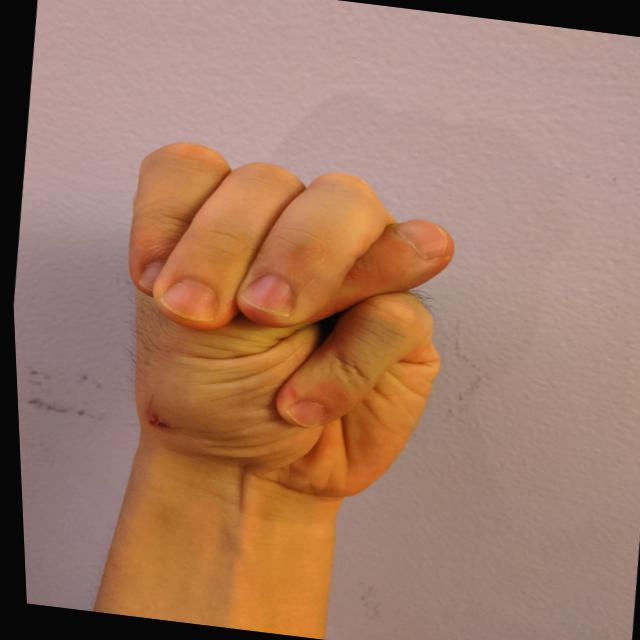M: (78, 124, 481, 513)
